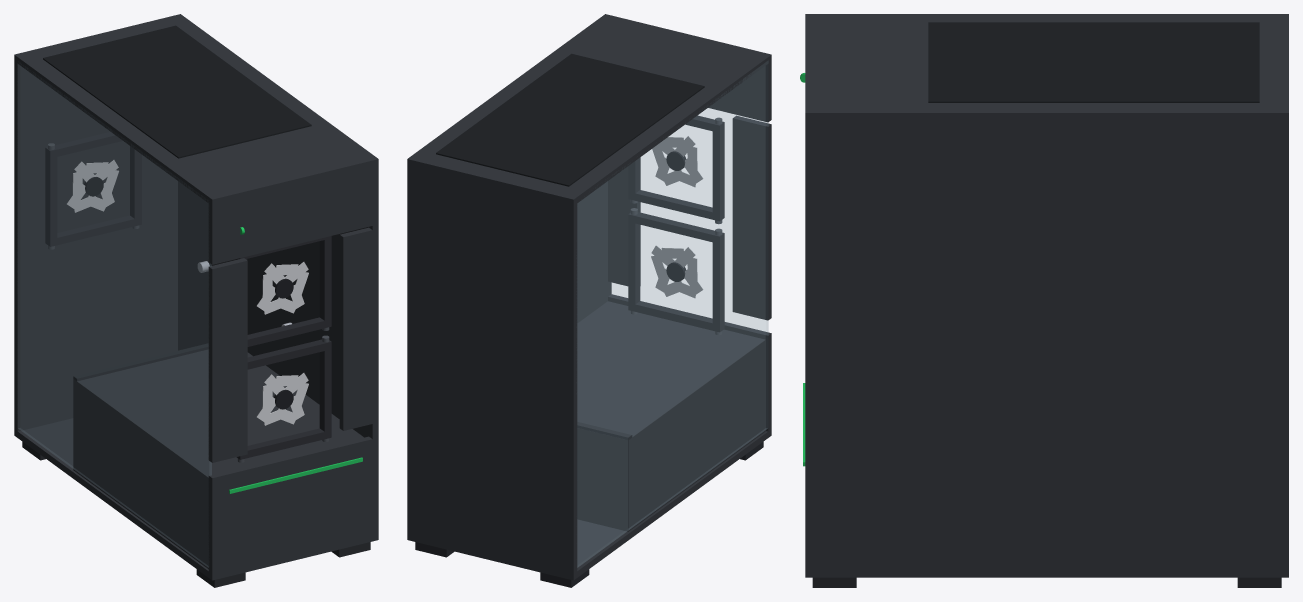
The model's file is case.fbx.
The picture shows the model from 3 angles, left to right: view 1: azimuth 30°, elevation 25°; view 2: azimuth 150°, elevation 25°; view 3: azimuth 270°, elevation 25°; orthographic projection. The views are drawn at different scales.
Visible parts, largest first — view 1: case_13, case_5, case_14, case_8, case_6, case_9, case_7, case_10, case_11, case_12, case_4, case_43 (+10 smaller); view 2: case_13, case_5, case_14, case_8, case_7, case_11, case_6, case_4, case_12, case_10, case_62, case_61 (+5 smaller); view 3: case_6, case_8, case_7, case_5, case_4, case_12.
Part boxes in pixels (left/top/right/bottom): case_13: left=18, top=65, right=211, bottom=567; case_5: left=14, top=14, right=183, bottom=431; case_14: left=73, top=349, right=363, bottom=568; case_8: left=43, top=25, right=311, bottom=158; case_6: left=175, top=15, right=378, bottom=534; case_9: left=208, top=436, right=378, bottom=573; case_7: left=14, top=16, right=378, bottom=205; case_10: left=208, top=165, right=378, bottom=264; case_11: left=208, top=258, right=247, bottom=462; case_12: left=339, top=227, right=378, bottom=430; case_4: left=14, top=418, right=378, bottom=580; case_43: left=45, top=215, right=141, bottom=246; case_13: left=577, top=62, right=768, bottom=567; case_5: left=407, top=156, right=577, bottom=573; case_14: left=577, top=301, right=765, bottom=531; case_8: left=436, top=53, right=704, bottom=186; case_7: left=407, top=14, right=771, bottom=205; case_11: left=732, top=115, right=771, bottom=320; case_6: left=407, top=14, right=611, bottom=534; case_4: left=407, top=429, right=771, bottom=580; case_12: left=608, top=157, right=640, bottom=286; case_10: left=708, top=61, right=771, bottom=122; case_62: left=628, top=212, right=724, bottom=243; case_61: left=628, top=301, right=724, bottom=332; case_6: left=805, top=109, right=1288, bottom=569; case_8: left=928, top=22, right=1259, bottom=102; case_7: left=805, top=14, right=1288, bottom=120; case_5: left=1280, top=14, right=1288, bottom=569; case_4: left=805, top=570, right=1288, bottom=577; case_12: left=805, top=198, right=814, bottom=434.
Size of the model in its own units: 8 by 18.06 by 16.68.
